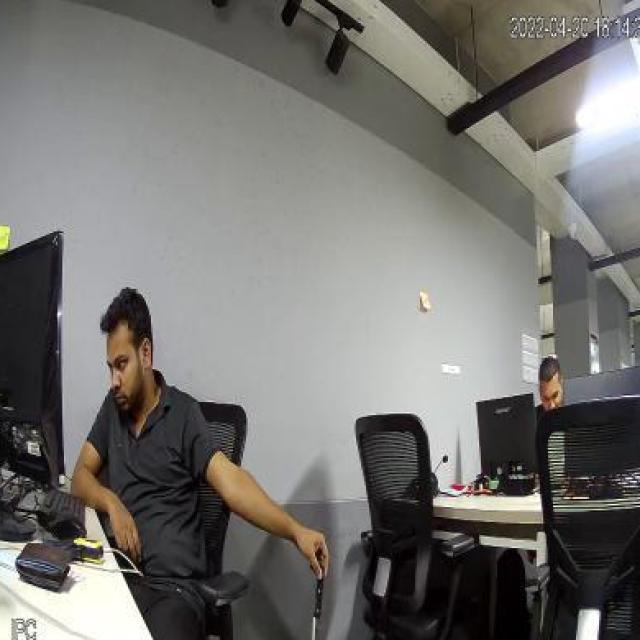Knife: (300, 563, 344, 640)
